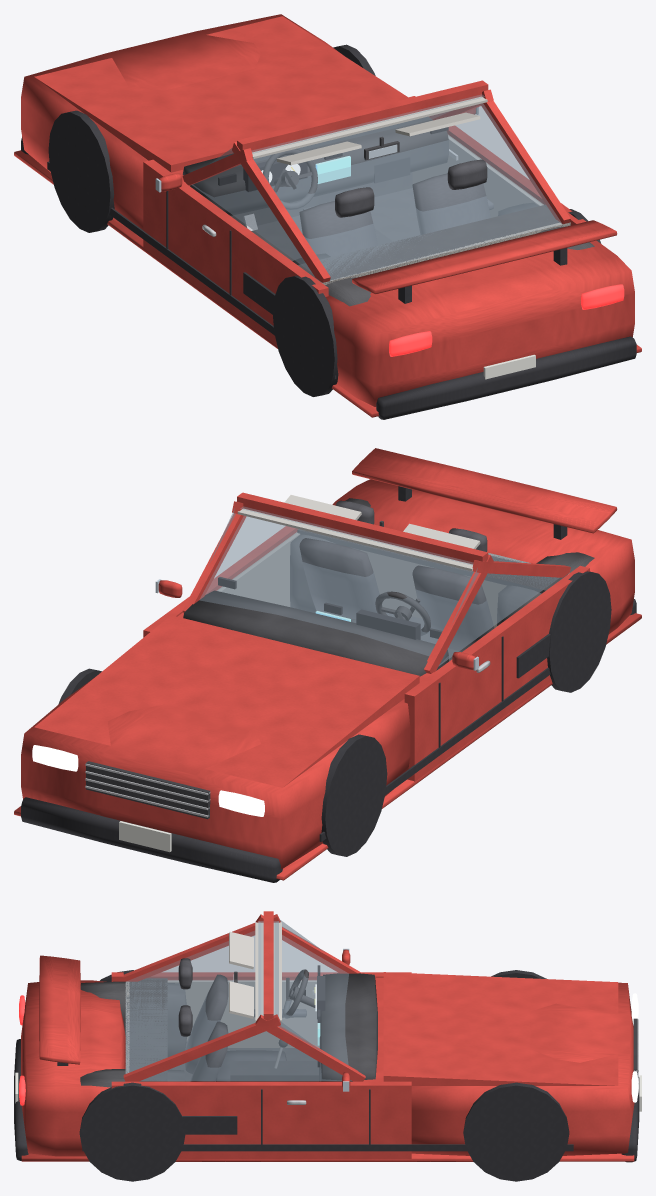
The model's file is sports.glb.
3 views of the same model, one above another, from view 1: azimuth 30°, elevation 25°; view 2: azimuth 150°, elevation 25°; view 3: azimuth 270°, elevation 25° (orthographic). The views are drawn at different scales.
Parts seen in each view (by area): view 1: sports_body; view 2: sports_body; view 3: sports_body.
Boxes of the visible parts, x1,y1,x2,y2 form: sports_body: (14,14,641,419); sports_body: (14,448,641,882); sports_body: (14,911,641,1181).
Size of the model in its own units: 2.26 by 1.27 by 4.5.
21 materials, 10 textured.
